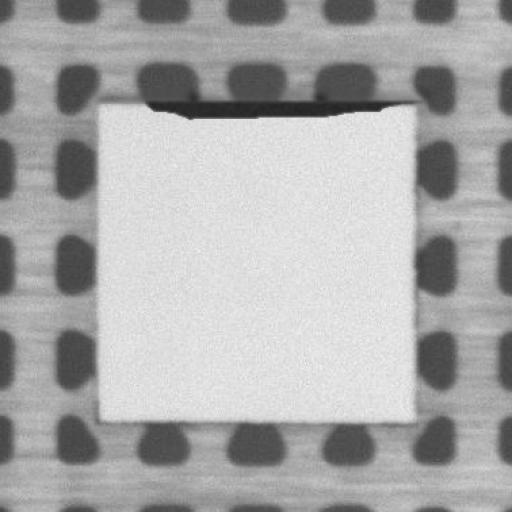DIE_BROKEN: (143, 92, 416, 120)
